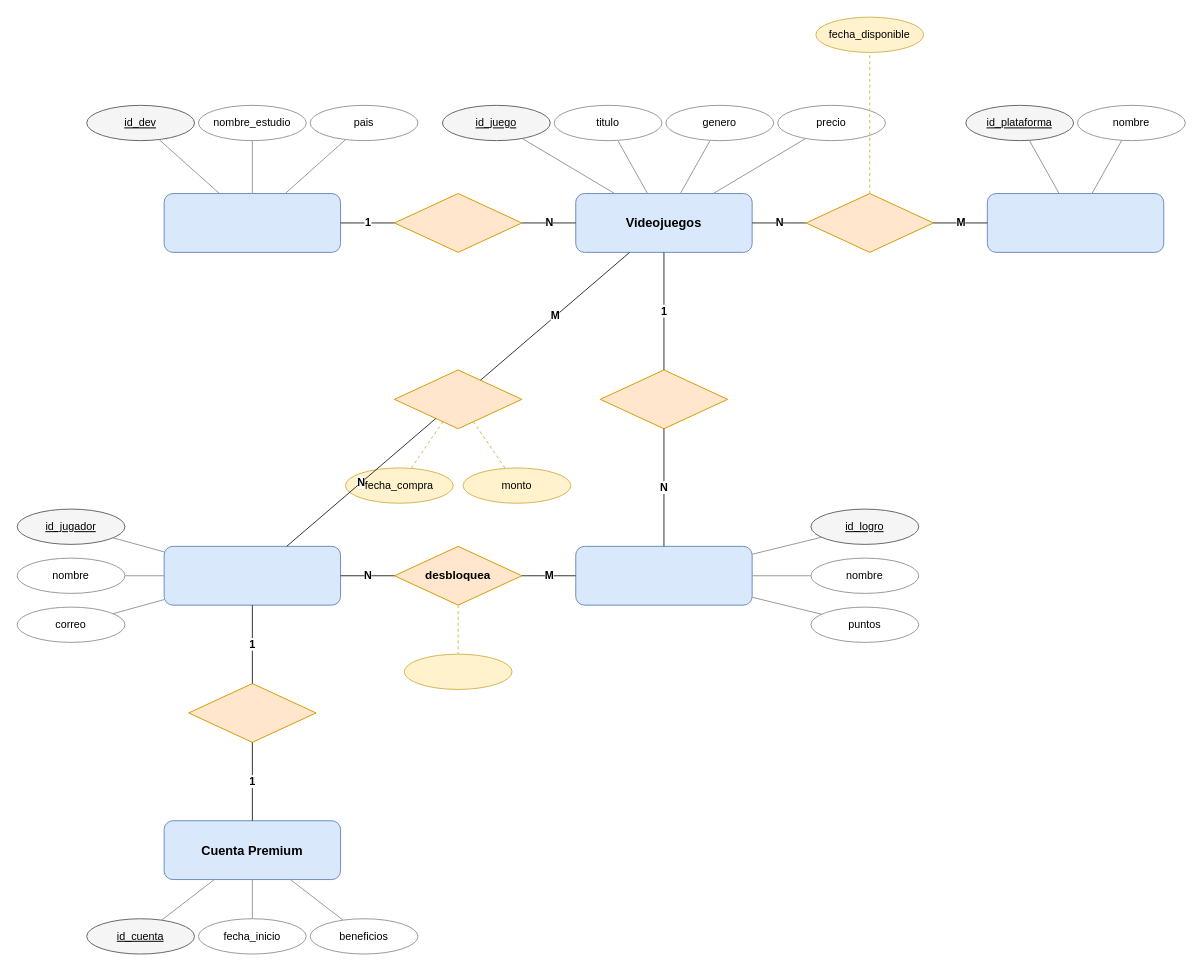
Image size: 1202x971. Some labels were removed from this diagram. Each missing label, with the centre of its shape:
"compra" goes at (x=457, y=399).
"desarrolla" goes at (x=457, y=222).
"Desarrolladores" goes at (x=252, y=222).
"fecha_obtenido" goes at (x=457, y=671).
"incluye" goes at (x=869, y=222).
"Jugadores" goes at (x=252, y=575).
"Logros" goes at (x=663, y=575).
"otorga" goes at (x=663, y=399).
"Plataformas" goes at (x=1075, y=222).
"posee" goes at (x=252, y=712).
